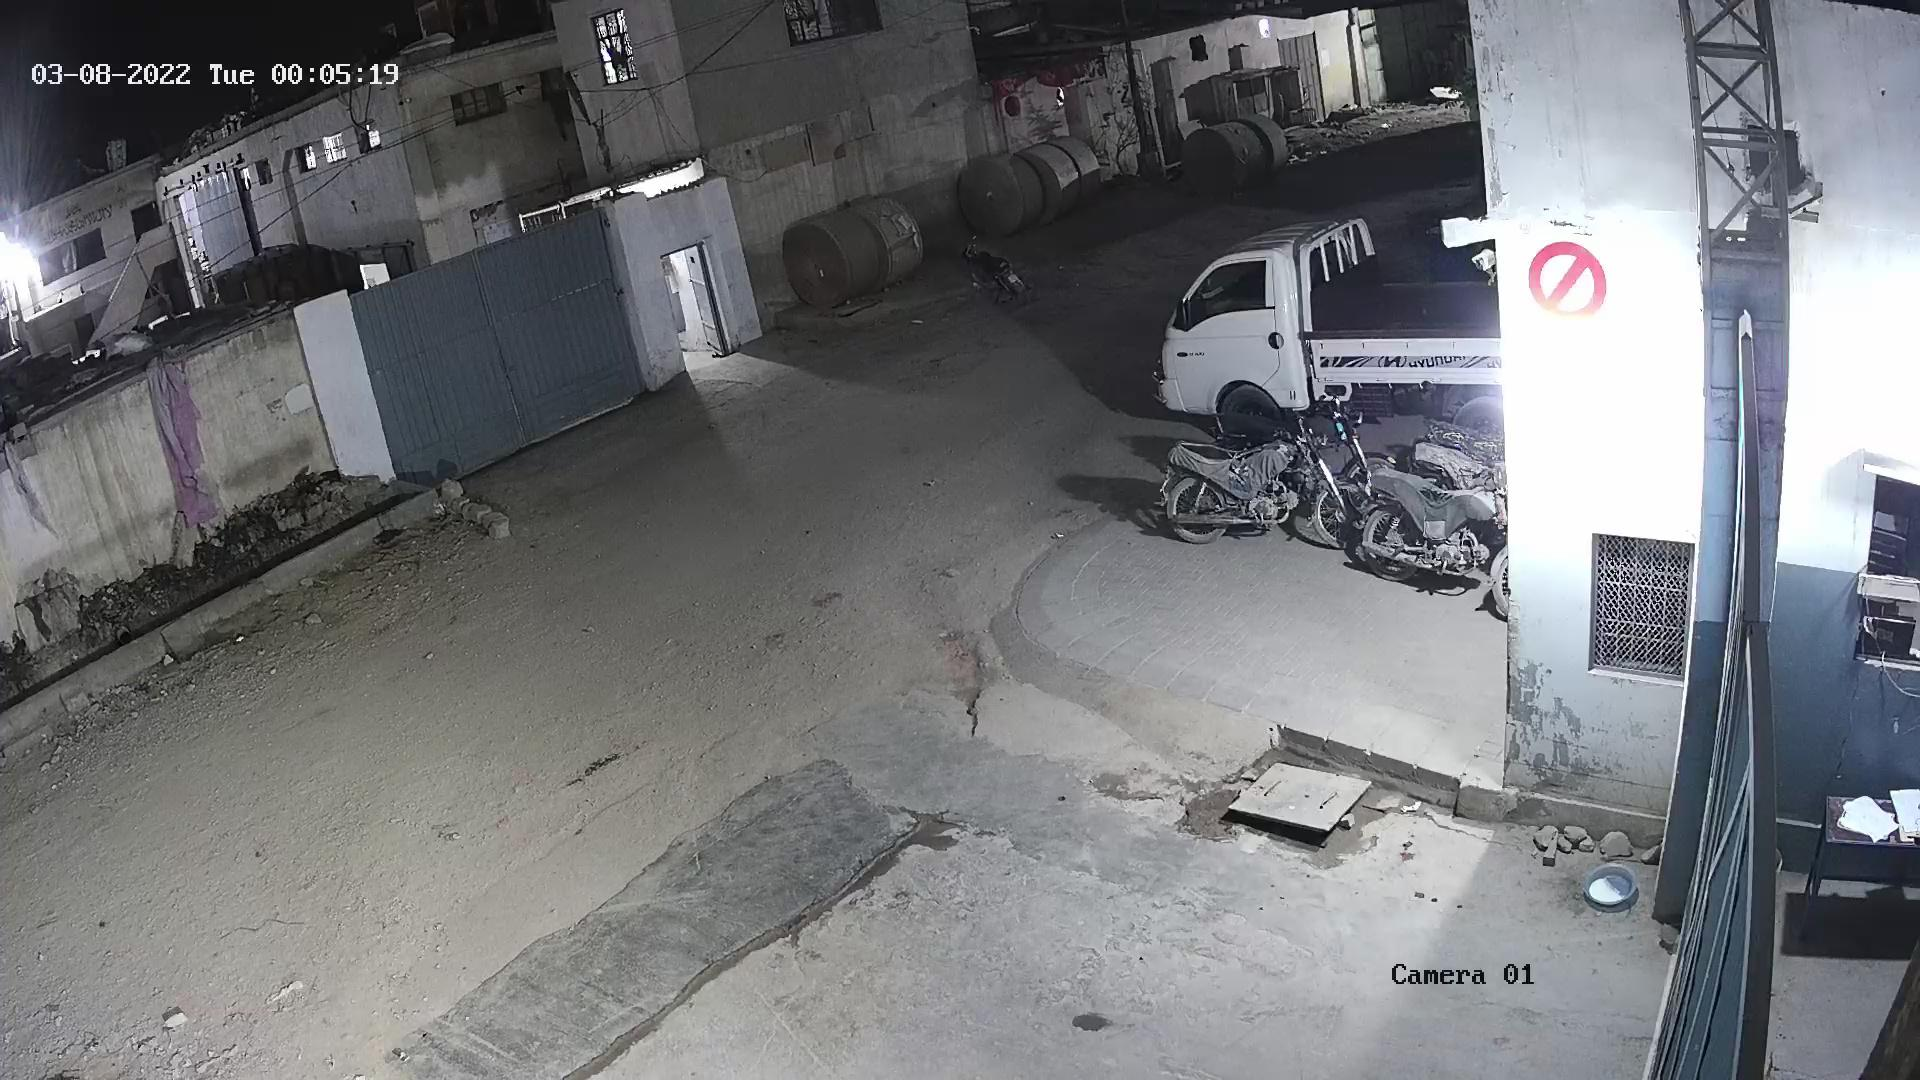Ltv: (1156, 215, 1493, 411)
bike: (1364, 467, 1511, 609), (1167, 439, 1346, 545), (1407, 430, 1489, 502), (1213, 409, 1360, 444), (955, 241, 1038, 303), (1431, 406, 1501, 459)
